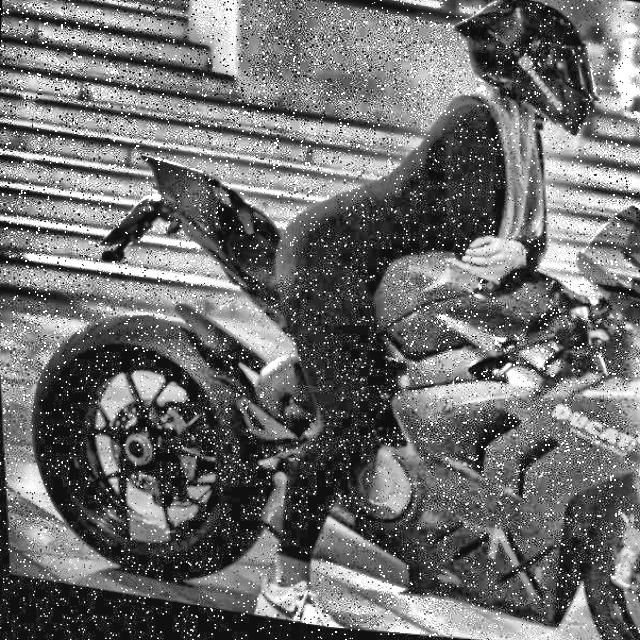Helmet: (436, 0, 611, 147)
